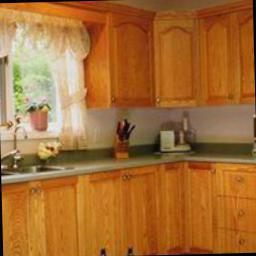Electrodomestico: (0, 247, 256, 256)
Lavaplatos: (0, 118, 67, 183)
